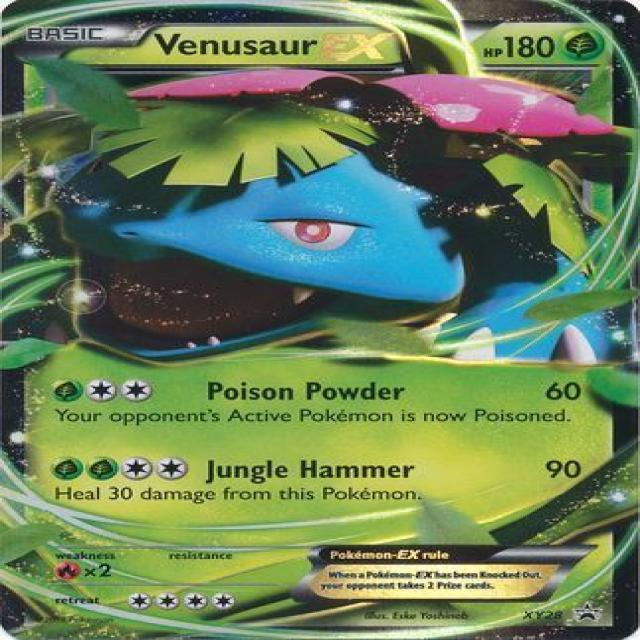Venusaur: (0, 67, 614, 357)
